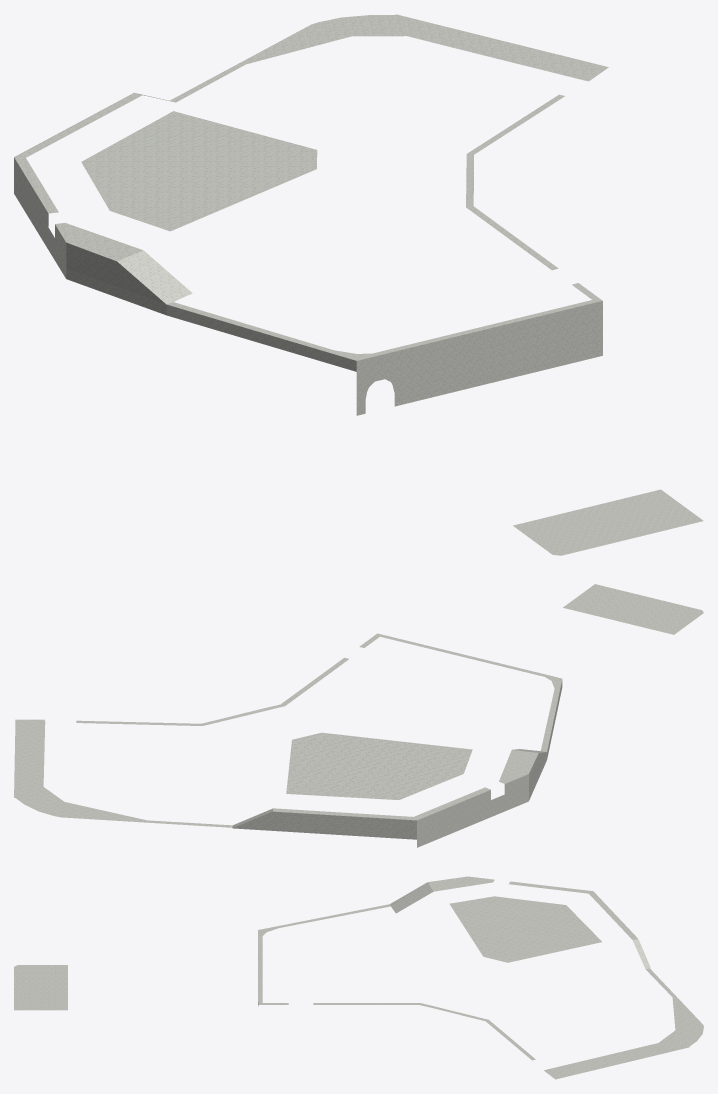
The model's file is kd_stage_1364a3_11_11_bounded.glb.
The picture shows the model from 3 angles, top to bottom: view 1: azimuth 30°, elevation 25°; view 2: azimuth 150°, elevation 25°; view 3: azimuth 270°, elevation 25°; orthographic projection. The views are drawn at different scales.
Visible parts, largest first — view 1: kd_stage_1364a3_11_11_bounded; view 2: kd_stage_1364a3_11_11_bounded; view 3: kd_stage_1364a3_11_11_bounded.
Part boxes in pixels (x1,y1,x2,y2): kd_stage_1364a3_11_11_bounded: (14, 14, 703, 555); kd_stage_1364a3_11_11_bounded: (14, 584, 703, 847); kd_stage_1364a3_11_11_bounded: (14, 876, 703, 1079).
Size of the model in its own units: 102 by 12.76 by 158.
1 material, 1 textured.
